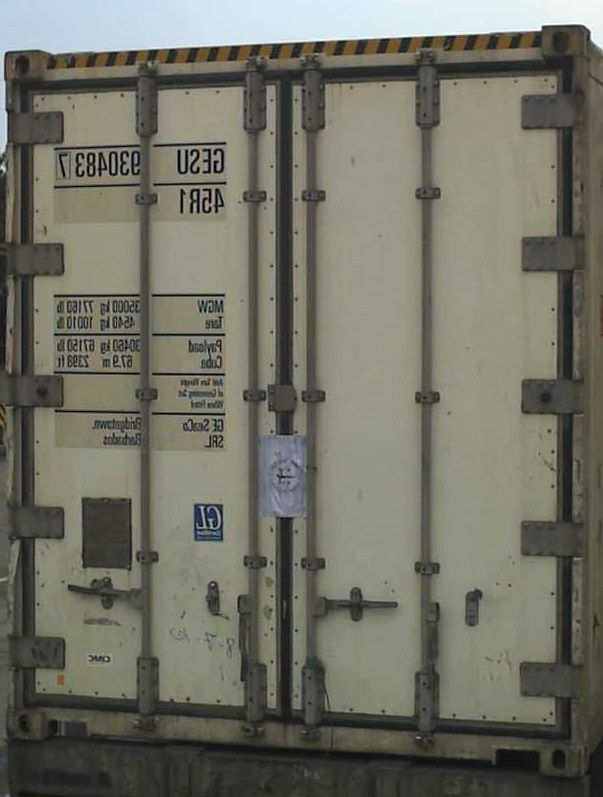container_door: (11, 23, 581, 742)
